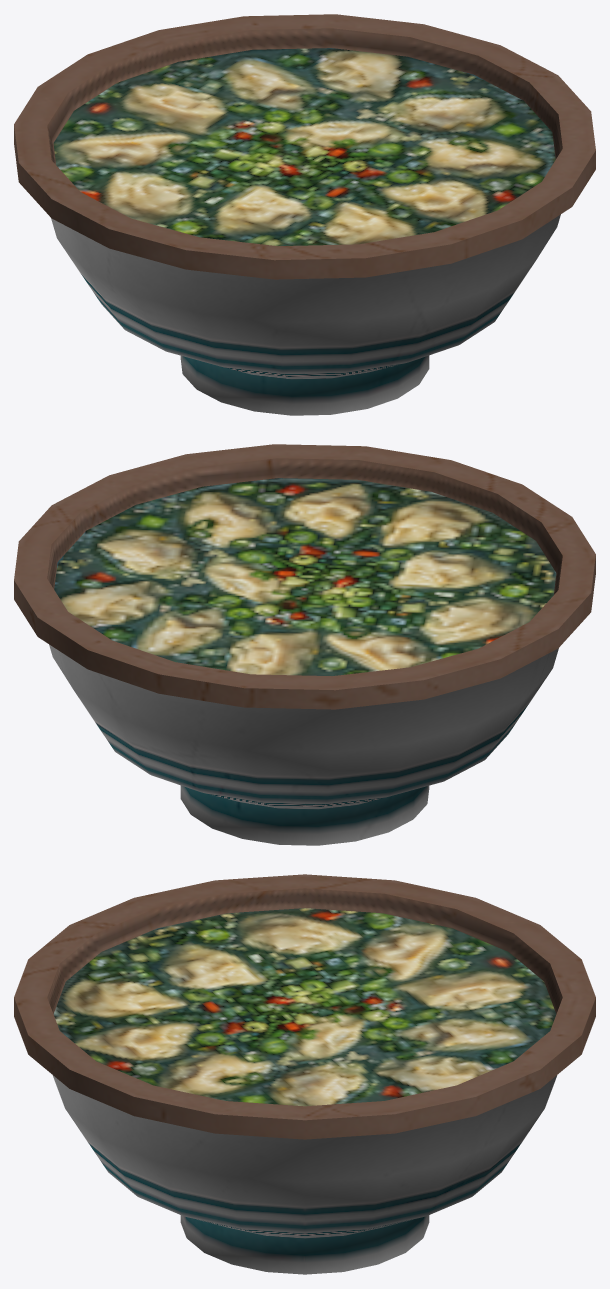
File: CP_Plate_02.fbx
The picture shows the model from 3 angles, top to bottom: view 1: azimuth 30°, elevation 25°; view 2: azimuth 150°, elevation 25°; view 3: azimuth 270°, elevation 25°; orthographic projection.
Visible parts, largest first — view 1: CP_Plate_02_LOD0; view 2: CP_Plate_02_LOD0; view 3: CP_Plate_02_LOD0.
Part boxes in pixels (<box>): CP_Plate_02_LOD0: <box>14,14,595,415</box>; CP_Plate_02_LOD0: <box>14,444,595,845</box>; CP_Plate_02_LOD0: <box>14,874,595,1274</box>.
Size of what is drawn, in the model's own units: 30.42 by 12.96 by 30.42.
